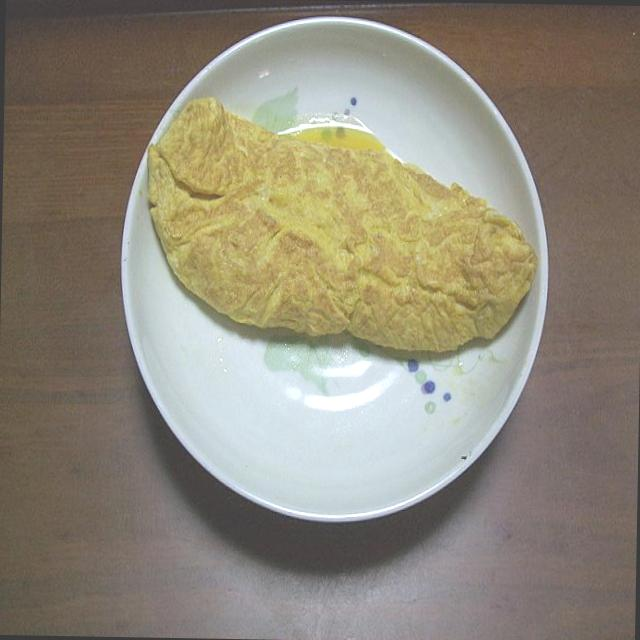Omelet: (125, 92, 543, 350)
